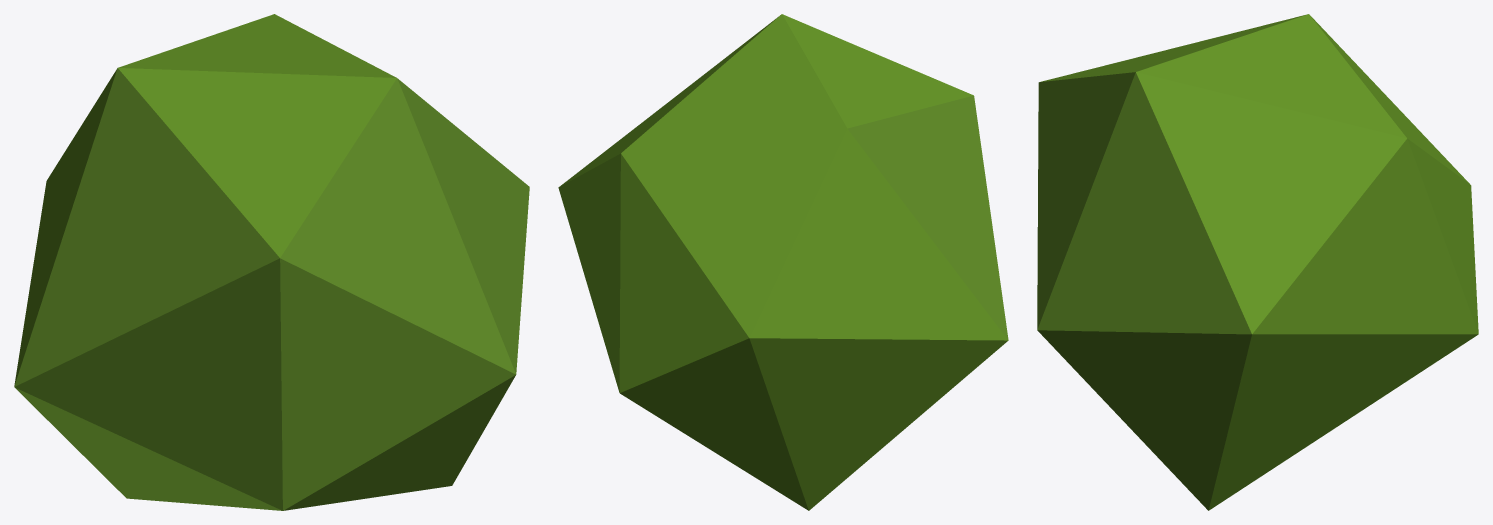
File: flower_3.fbx
3 renders of one model, left to right at view 1: azimuth 30°, elevation 25°; view 2: azimuth 150°, elevation 25°; view 3: azimuth 270°, elevation 25°, orthographic. The views are drawn at different scales.
Visible parts, largest first — view 1: flower_3; view 2: flower_3; view 3: flower_3.
Boxes of the visible parts, left/top/right/bottom form: flower_3: left=14, top=14, right=529, bottom=510; flower_3: left=558, top=14, right=1008, bottom=510; flower_3: left=1037, top=14, right=1478, bottom=510.
Size of the model in its own units: 46.53 by 39.7 by 39.21.
